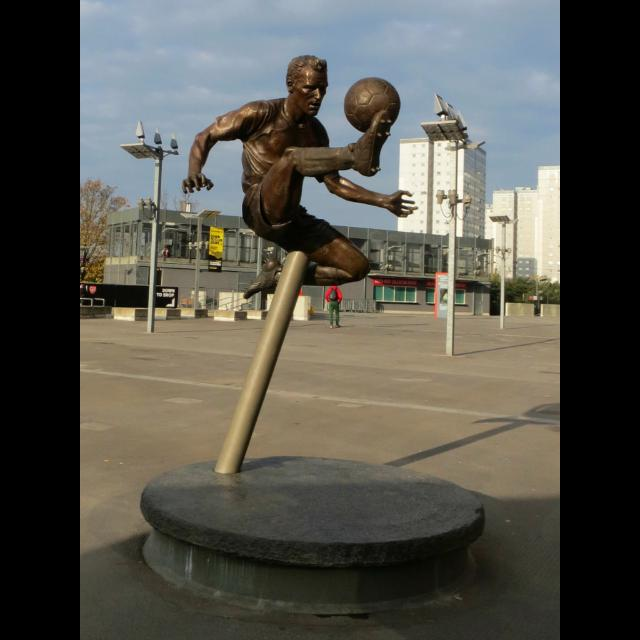Football: (341, 74, 404, 130)
